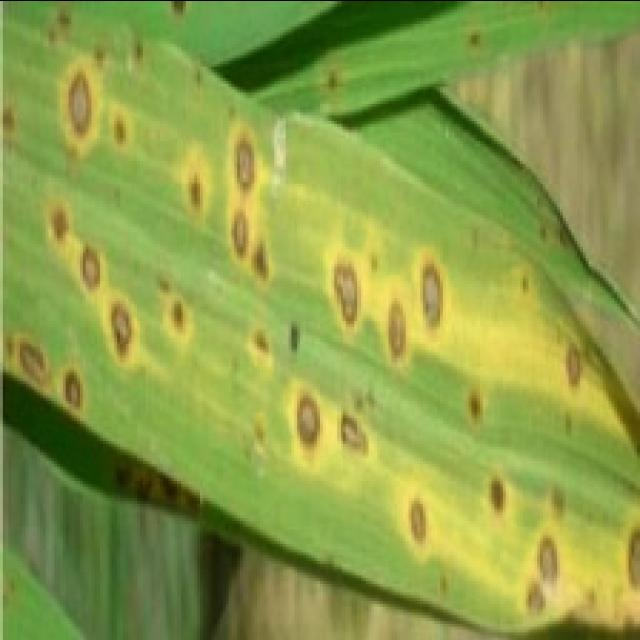Unhealthy: (67, 236, 142, 366), (224, 114, 276, 284), (57, 38, 115, 163), (514, 530, 573, 623), (281, 373, 340, 462), (411, 248, 458, 349), (323, 236, 371, 333), (395, 471, 444, 563), (371, 272, 416, 370), (0, 329, 56, 399), (151, 276, 194, 344), (178, 142, 212, 226), (616, 504, 640, 601), (42, 191, 77, 248), (61, 359, 87, 416), (339, 407, 368, 457), (246, 320, 276, 368), (566, 336, 584, 395), (465, 376, 485, 427), (109, 105, 131, 149), (549, 480, 567, 532), (487, 472, 507, 518), (47, 8, 72, 43), (250, 410, 269, 453), (0, 100, 22, 135), (323, 66, 345, 90), (130, 35, 144, 71), (288, 318, 300, 355), (366, 250, 380, 274), (466, 29, 482, 49), (171, 0, 186, 18), (439, 571, 449, 596)
